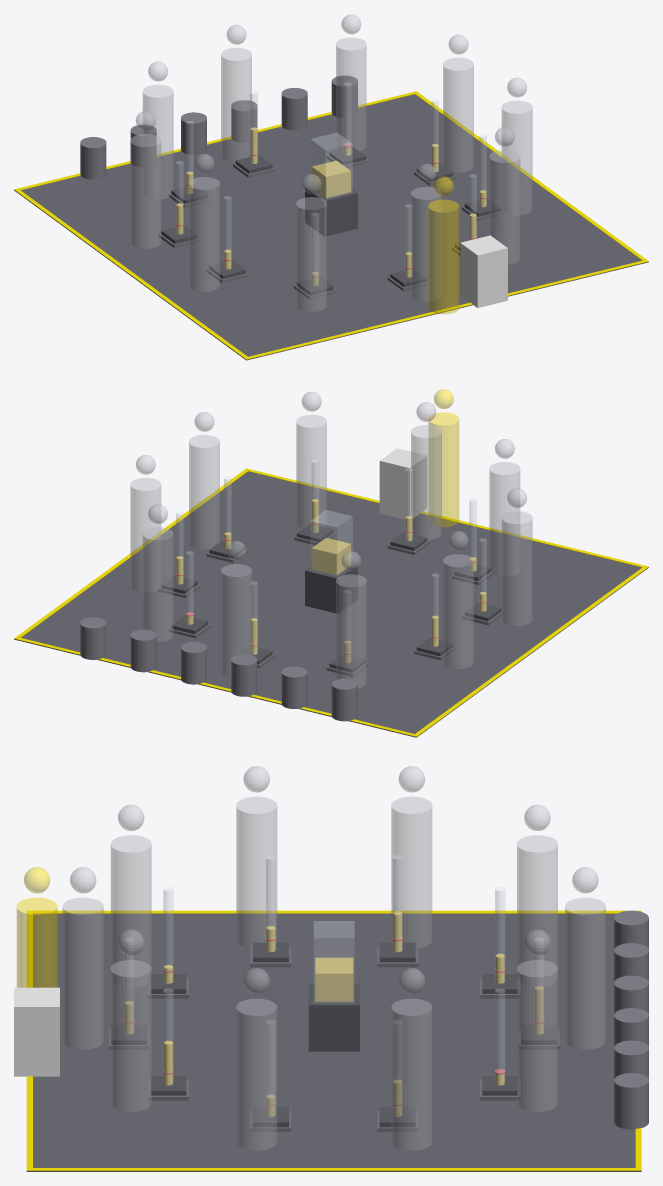
Rendered from G08_THE_WELL.glb.
3 renders of one model, top to bottom at view 1: azimuth 30°, elevation 25°; view 2: azimuth 150°, elevation 25°; view 3: azimuth 270°, elevation 25°, orthographic. The views are drawn at different scales.
Visible parts, largest first — view 1: floor_area, player_7_body, operator_body, player_2_body, player_6_body, player_9_body, player_8_body, player_0_body, player_3_body, player_5_body, player_4_body, player_1_body (+23 smaller); view 2: floor_area, player_8_body, operator_body, player_3_body, player_9_body, player_7_body, player_2_body, player_4_body, player_0_body, player_6_body, player_1_body, counting_tray (+23 smaller); view 3: floor_area, player_3_body, player_0_body, player_2_body, player_1_body, player_9_body, player_5_body, player_4_body, player_6_body, player_8_body, player_7_body, counting_tray (+33 smaller).
Part boxes in pixels (left/top/right/bottom): floor_area: left=14, top=94, right=648, bottom=360; player_7_body: left=130, top=134, right=161, bottom=248; operator_body: left=428, top=199, right=459, bottom=314; player_2_body: left=501, top=100, right=532, bottom=215; player_6_body: left=142, top=84, right=173, bottom=199; player_9_body: left=296, top=197, right=326, bottom=311; player_8_body: left=189, top=177, right=219, bottom=291; player_0_body: left=411, top=186, right=441, bottom=301; player_3_body: left=443, top=57, right=473, bottom=172; player_5_body: left=221, top=48, right=251, bottom=162; player_4_body: left=336, top=37, right=366, bottom=151; player_1_body: left=489, top=150, right=520, bottom=264; floor_area: left=14, top=471, right=648, bottom=737; player_8_body: left=501, top=511, right=532, bottom=625; operator_body: left=428, top=412, right=459, bottom=527; player_3_body: left=130, top=478, right=161, bottom=592; player_9_body: left=489, top=462, right=520, bottom=576; player_7_body: left=443, top=554, right=473, bottom=668; player_2_body: left=189, top=435, right=219, bottom=549; player_4_body: left=142, top=527, right=173, bottom=641; player_0_body: left=411, top=425, right=441, bottom=539; player_6_body: left=336, top=574, right=366, bottom=688; player_1_body: left=296, top=414, right=326, bottom=528; counting_tray: left=379, top=448, right=427, bottom=519; floor_area: left=26, top=913, right=641, bottom=1171; player_3_body: left=391, top=998, right=432, bottom=1150; player_0_body: left=62, top=897, right=103, bottom=1049; player_2_body: left=236, top=998, right=277, bottom=1150; player_1_body: left=110, top=960, right=151, bottom=1111; player_9_body: left=110, top=835, right=151, bottom=986; player_5_body: left=565, top=897, right=605, bottom=1049; player_4_body: left=517, top=960, right=557, bottom=1111; player_6_body: left=517, top=835, right=557, bottom=986; player_8_body: left=236, top=796, right=277, bottom=947; player_7_body: left=391, top=796, right=432, bottom=947; counting_tray: left=14, top=987, right=59, bottom=1076.
Bounding box in the file's own units: 6 × 1.87 × 6.19.
